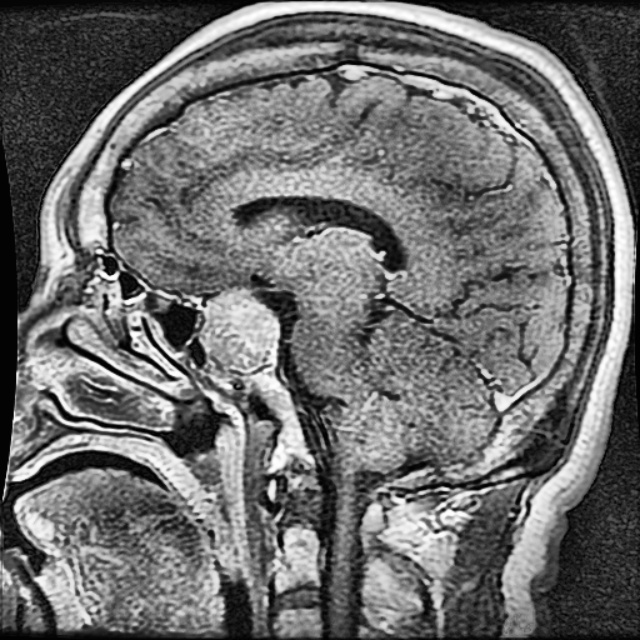Pituitary: (204, 290, 279, 368)
